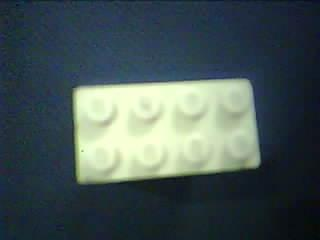lego: (71, 75, 263, 185)
